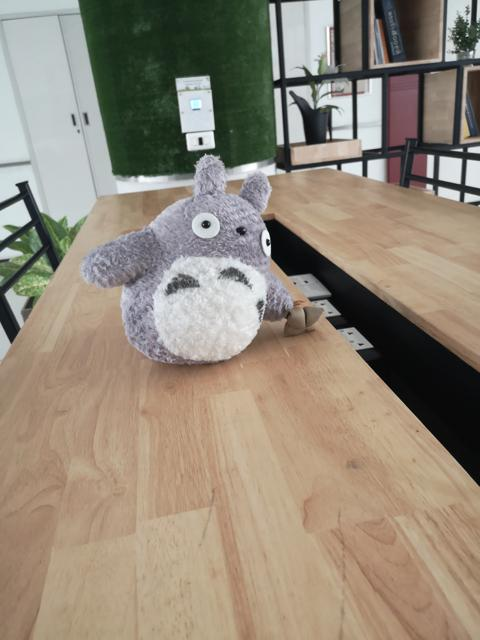totoro: (76, 152, 330, 375)
